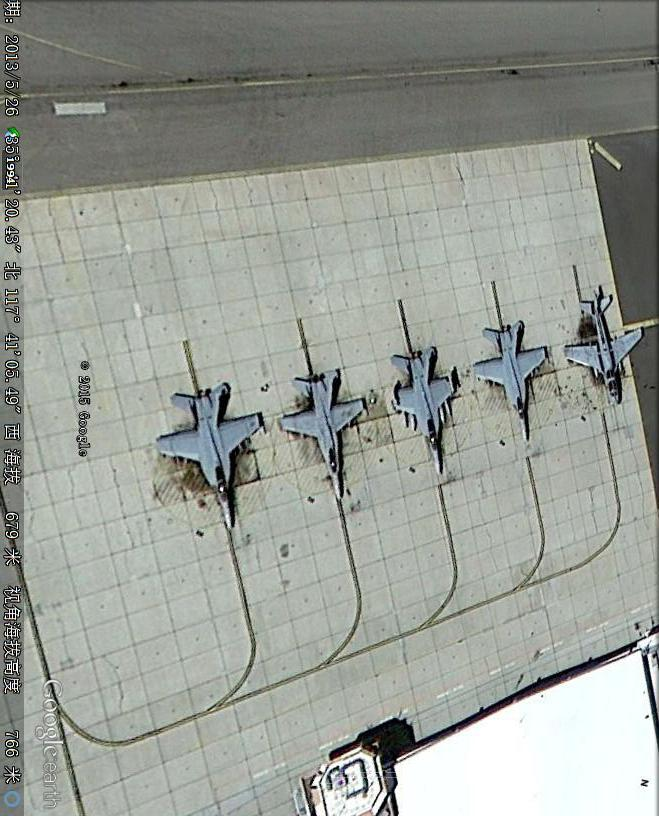F/A-18: (157, 375, 261, 532), (279, 362, 365, 498), (387, 343, 459, 473), (470, 320, 547, 438)
plane: (558, 289, 645, 406)
